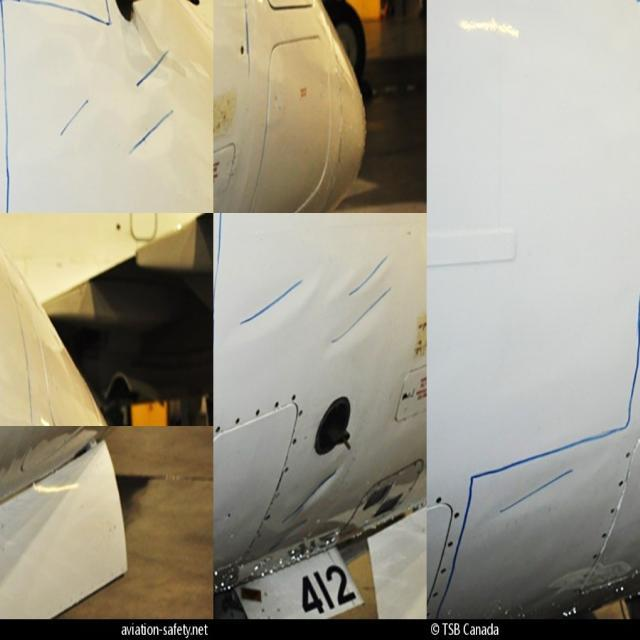dent: (121, 104, 194, 180)
